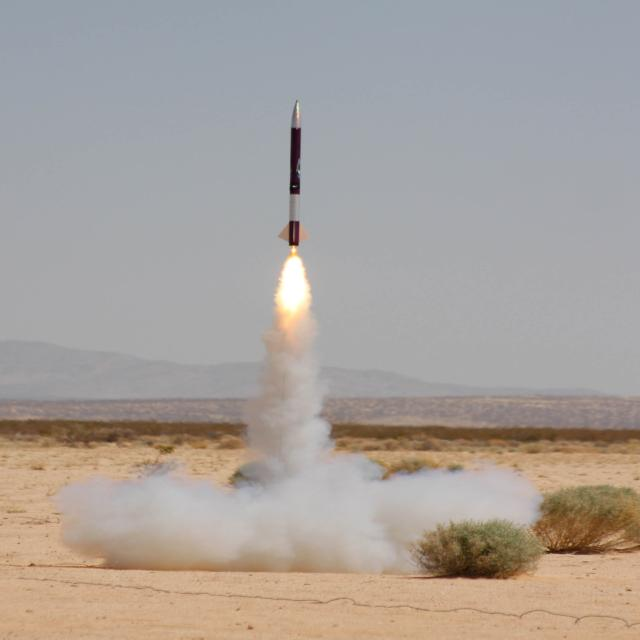Rocket: (277, 99, 311, 248)
